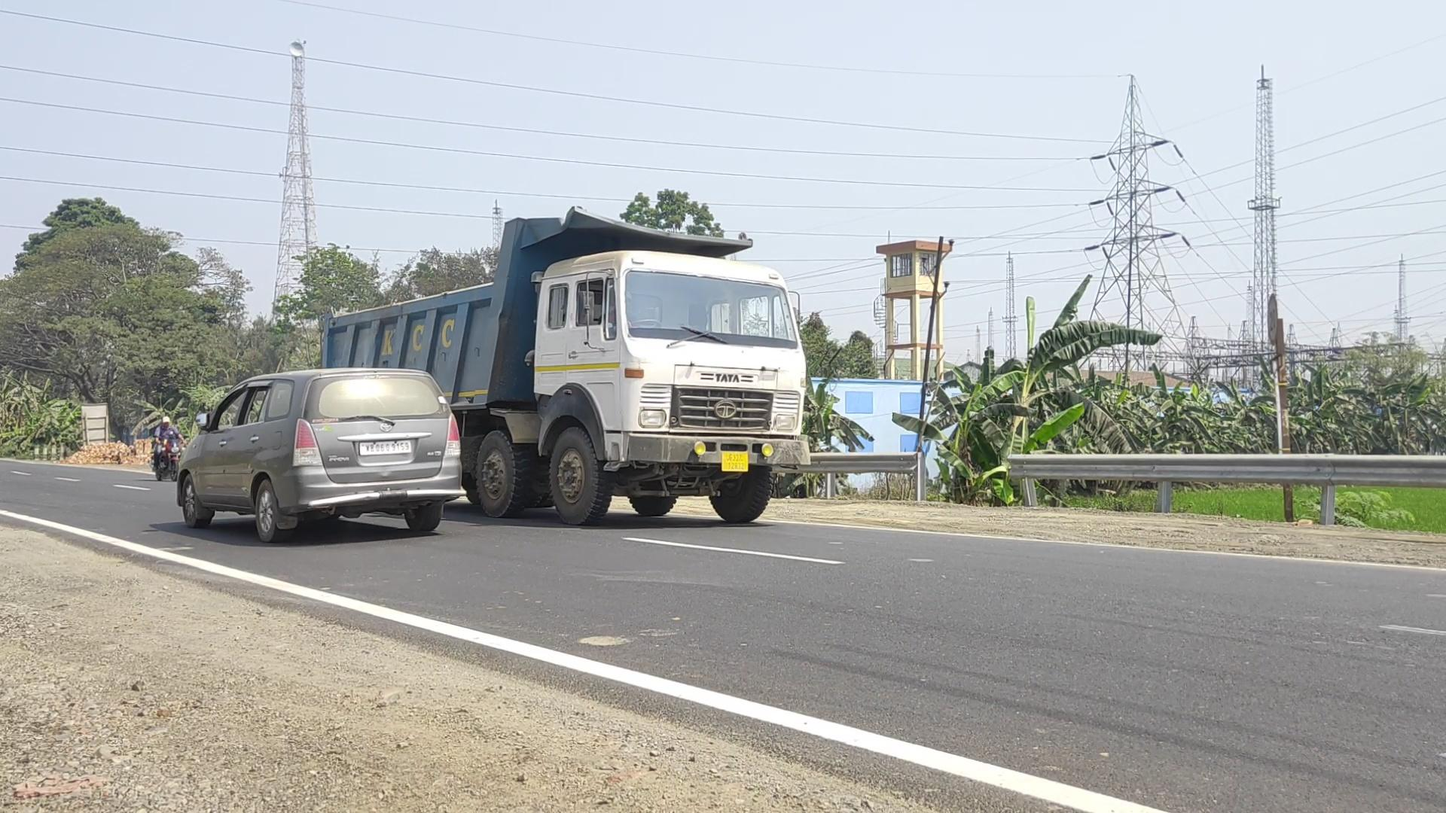bike: (151, 416, 189, 481)
car: (177, 367, 468, 543)
truck: (322, 205, 810, 525)
